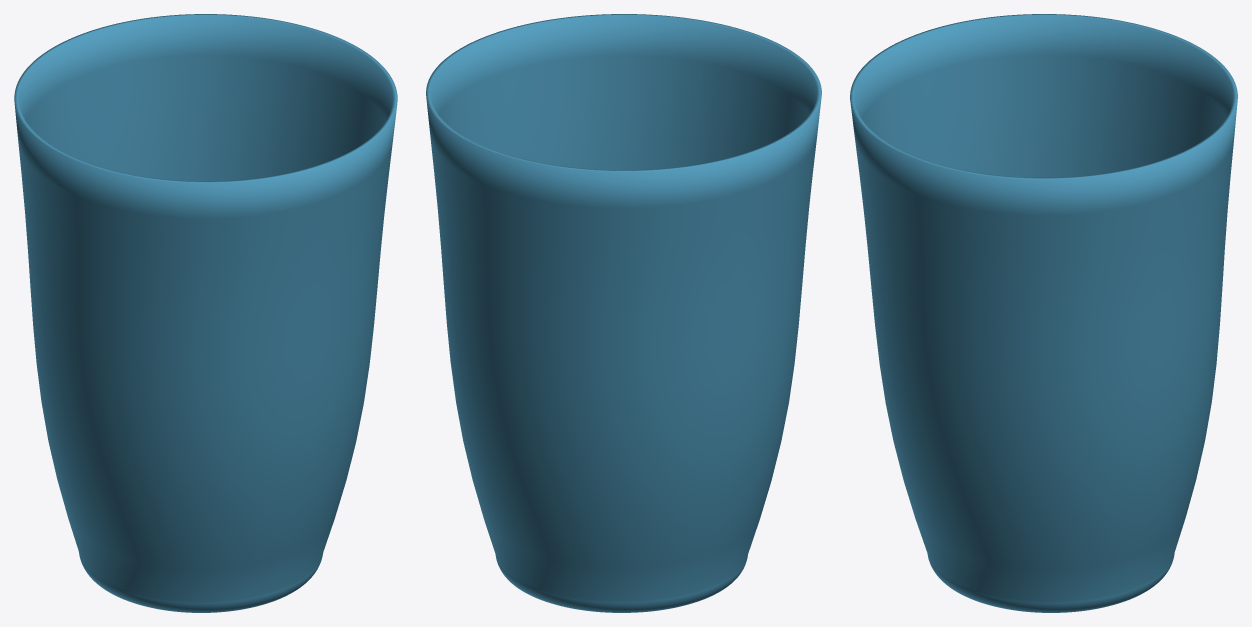
Rendered from blue_cup.glb.
3 views of the same model, side by side, from view 1: azimuth 30°, elevation 25°; view 2: azimuth 150°, elevation 25°; view 3: azimuth 270°, elevation 25° (orthographic).
Visible parts, largest first — view 1: w_blue_cup; view 2: w_blue_cup; view 3: w_blue_cup.
Part boxes in pixels (<box>): w_blue_cup: <box>14,14,397,612</box>; w_blue_cup: <box>426,14,821,612</box>; w_blue_cup: <box>850,14,1237,612</box>.
Size of the model in its own units: 0.0784 by 0.1052 by 0.0781.
